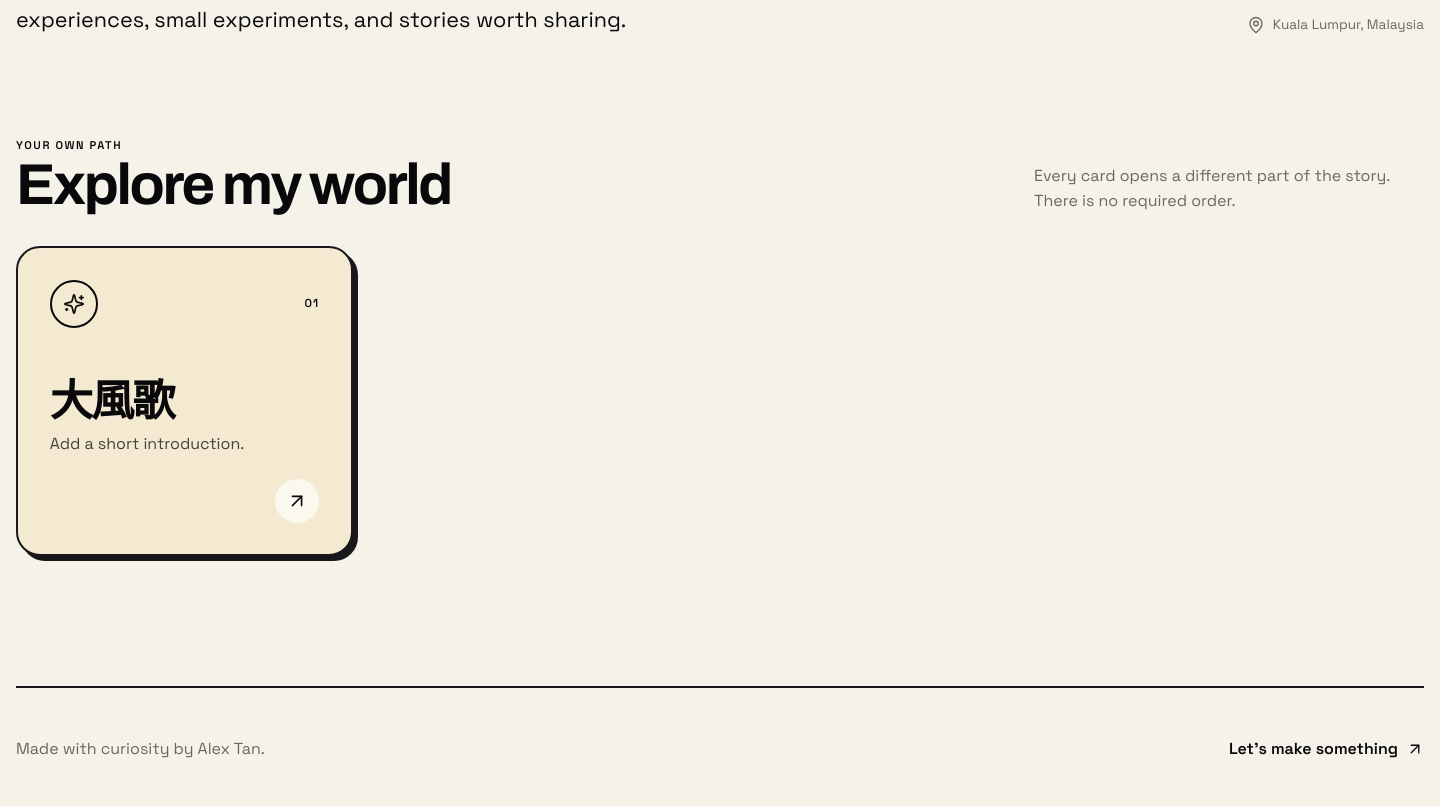
published card navigation › opens, closes and reopens a card with ID Catchphrase
(page scrolled)
Click the button with aria-label "Open 大風歌": (74, 304) [18,248,351,554]
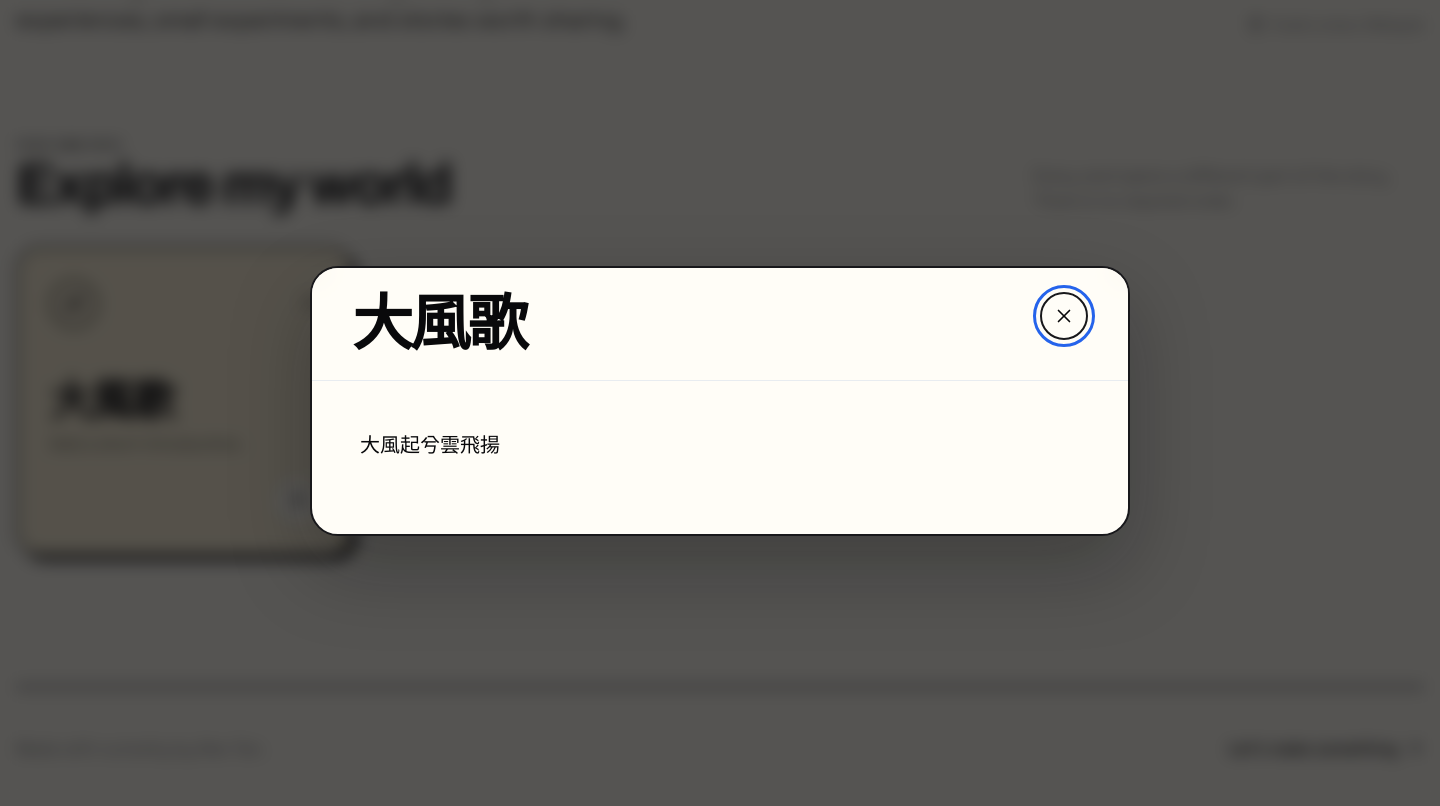
Check: the dialog "大風歌" shows "大風起兮雲飛揚", box [360,432,500,458]
Press Escape
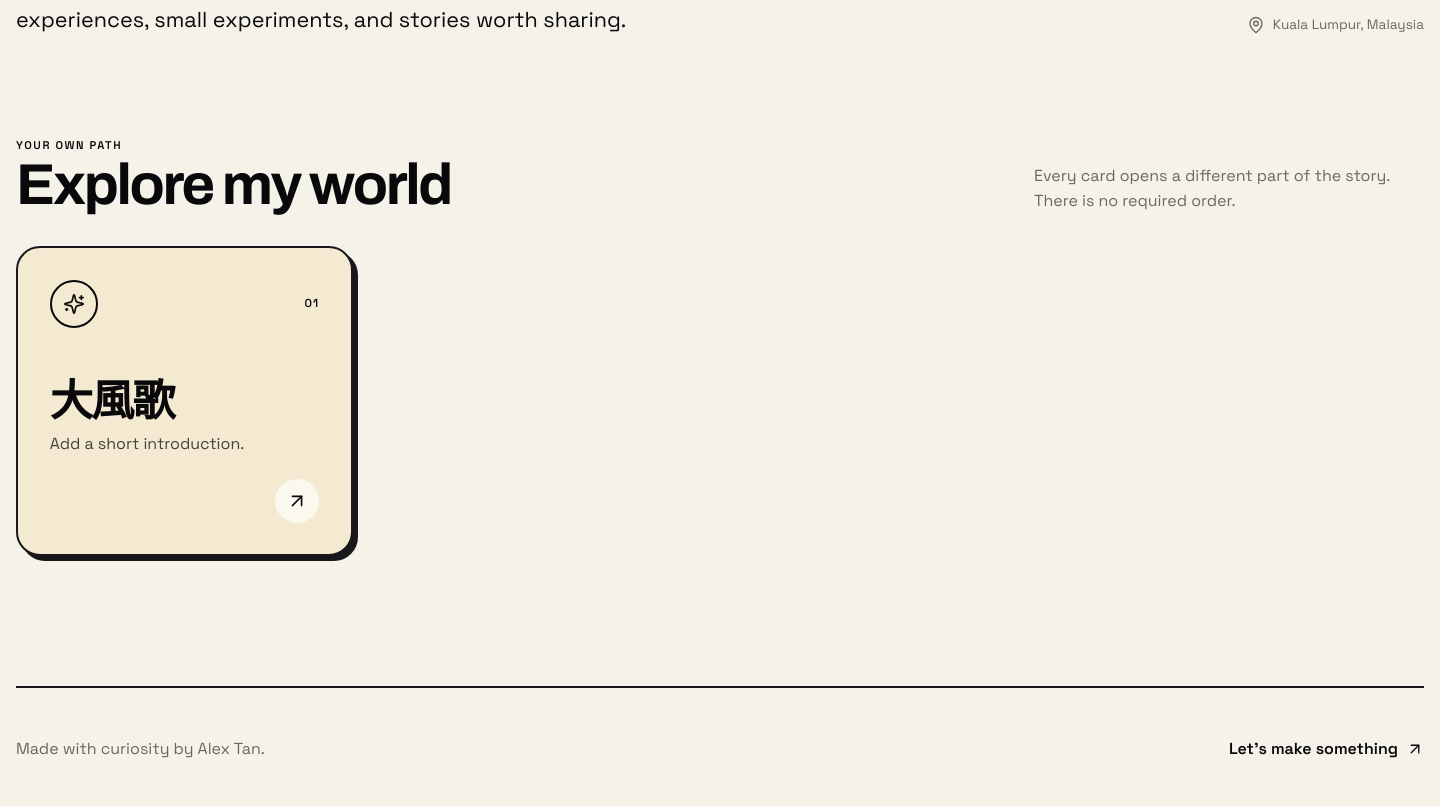
Check: the dialog is gone
Click the button with aria-label "Open 大風歌": (74, 304) [18,248,351,554]
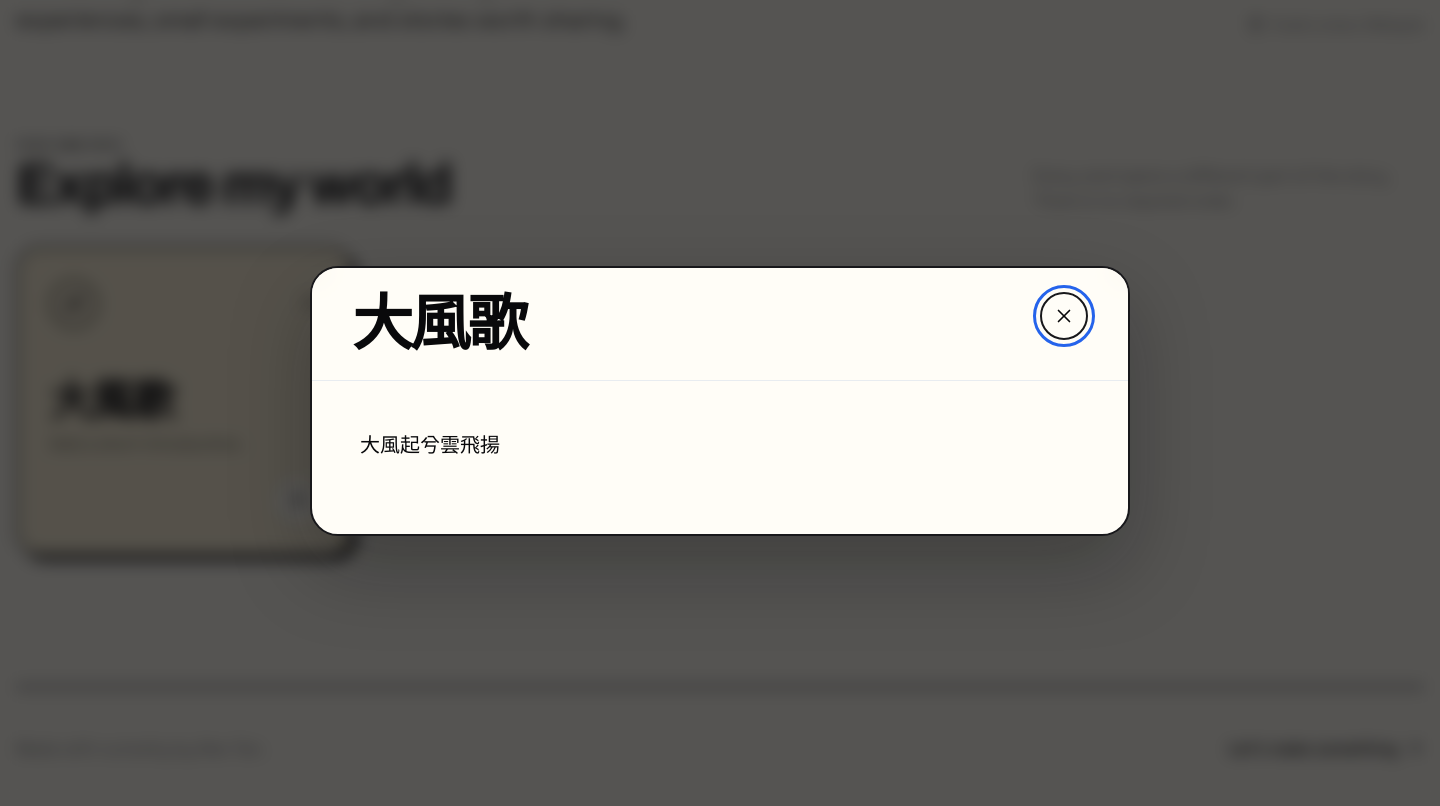
Check: the dialog "大風歌" is shown, box [310,266,1130,536]
